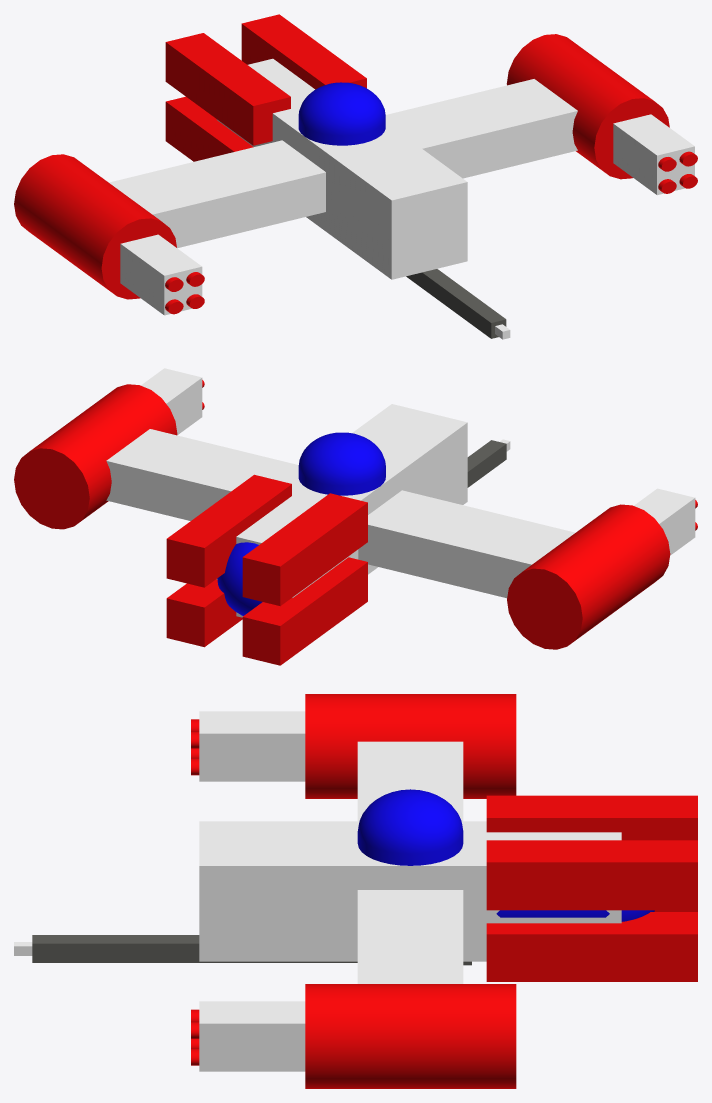
File: Starship 1.fbx
3 renders of one model, top to bottom at view 1: azimuth 30°, elevation 25°; view 2: azimuth 150°, elevation 25°; view 3: azimuth 270°, elevation 25°, orthographic. The views are drawn at different scales.
Visible parts, largest first — view 1: Wings, Body, WingBase_1_, WingBase_0_, Engine_0_, Engine_1_, Cabin, RWeapon, LWeapon, Engine_2_, MainWeapon; view 2: Wings, WingBase_1_, WingBase_0_, Body, Engine_0_, Engine_2_, Engine_1_, Cabin, Engine_3_, RWeapon, LWeapon, Capsule (+1 smaller); view 3: Body, WingBase_0_, Wings, WingBase_1_, Engine_1_, Engine_3_, Engine_0_, RWeapon, LWeapon, Cabin, MainWeapon, Capsule.
Boxes of the visible parts, x1,y1,x2,y2 form: Wings: (109, 79, 577, 248); Body: (216, 58, 467, 279); WingBase_1_: (14, 154, 176, 299); WingBase_0_: (506, 34, 669, 179); Engine_0_: (165, 33, 290, 145); Engine_1_: (241, 14, 366, 89); Cabin: (298, 82, 385, 145); RWeapon: (120, 234, 202, 315); LWeapon: (613, 114, 694, 195); Engine_2_: (165, 96, 253, 161); MainWeapon: (406, 269, 506, 338); Wings: (106, 429, 575, 598); WingBase_1_: (507, 504, 670, 649); WingBase_0_: (14, 384, 177, 529); Body: (216, 404, 467, 617); Engine_0_: (242, 493, 367, 606); Engine_2_: (242, 557, 367, 665); Engine_1_: (166, 474, 291, 587); Cabin: (298, 432, 385, 495); Engine_3_: (166, 579, 242, 647); RWeapon: (634, 488, 695, 555); LWeapon: (141, 368, 202, 434); Capsule: (217, 542, 262, 615); Body: (199, 821, 621, 961); WingBase_0_: (305, 984, 516, 1088); Wings: (357, 741, 463, 983); WingBase_1_: (305, 694, 516, 798); Engine_1_: (486, 840, 697, 910); Engine_3_: (486, 912, 697, 981); Engine_0_: (486, 795, 697, 840); RWeapon: (199, 711, 305, 781); LWeapon: (199, 1001, 305, 1071); Cabin: (357, 789, 463, 865); MainWeapon: (32, 935, 357, 962); Capsule: (496, 910, 654, 921).
Bounding box in the file's own units: 750 × 170 × 648.
